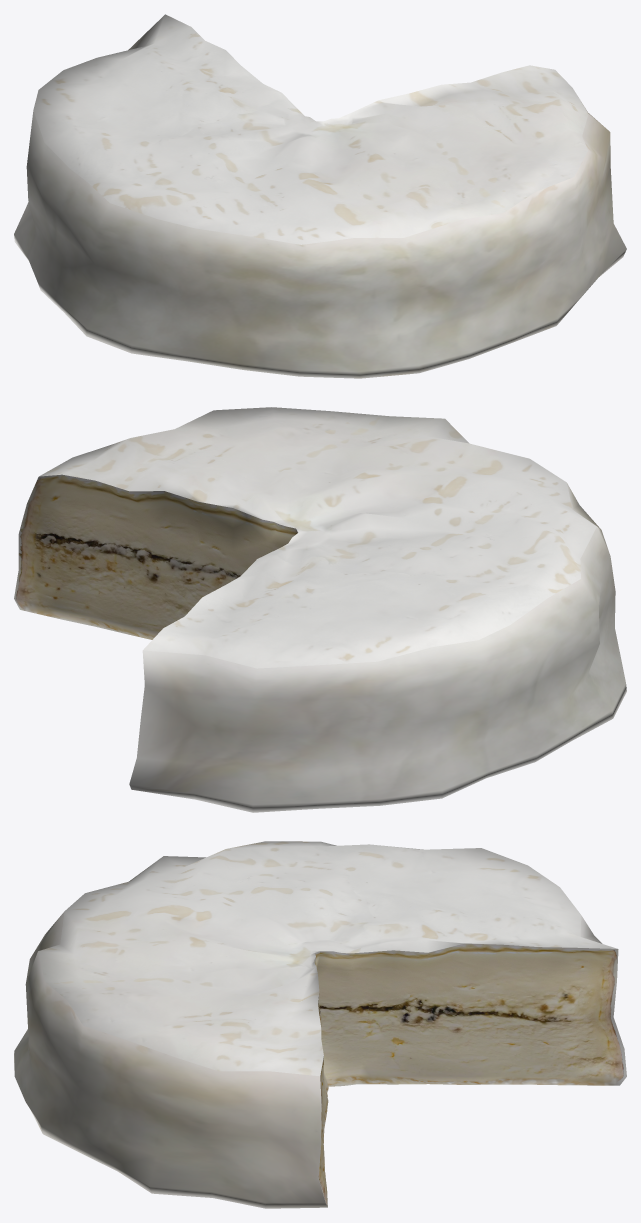
Rendered from cheese.glb.
3 renders of one model, top to bottom at view 1: azimuth 30°, elevation 25°; view 2: azimuth 150°, elevation 25°; view 3: azimuth 270°, elevation 25°, orthographic. The views are drawn at different scales.
Visible parts, largest first — view 1: cheese; view 2: cheese; view 3: cheese.
Part boxes in pixels (x1,y1,x2,y2): cheese: (14, 14, 626, 378); cheese: (14, 407, 626, 812); cheese: (14, 841, 626, 1208).
Bounding box in the file's own units: 0.9905 × 0.2553 × 1.
Materials: 1 (1 with a texture image).
